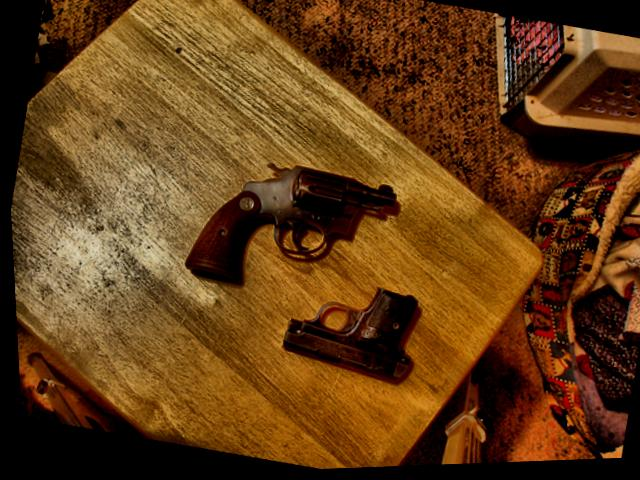pistol: (173, 143, 402, 313), (269, 270, 424, 393)
